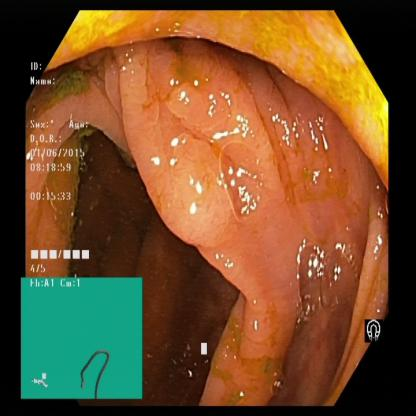Polyps: (125, 67, 224, 248)
